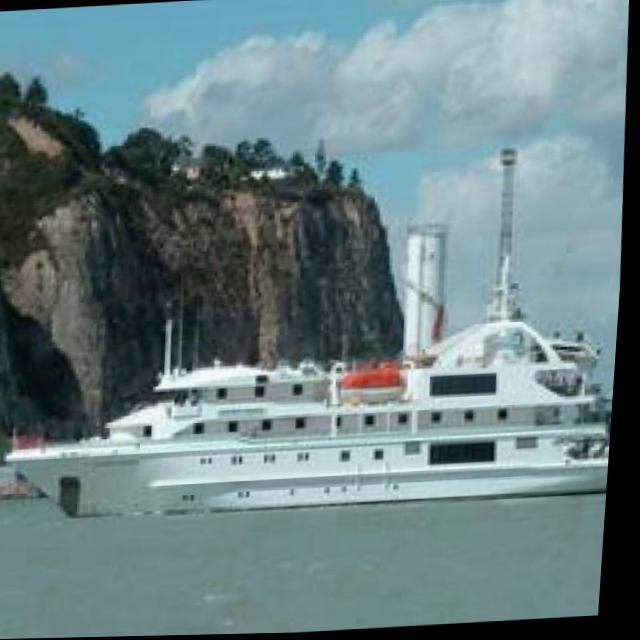ship2: (9, 151, 617, 523)
